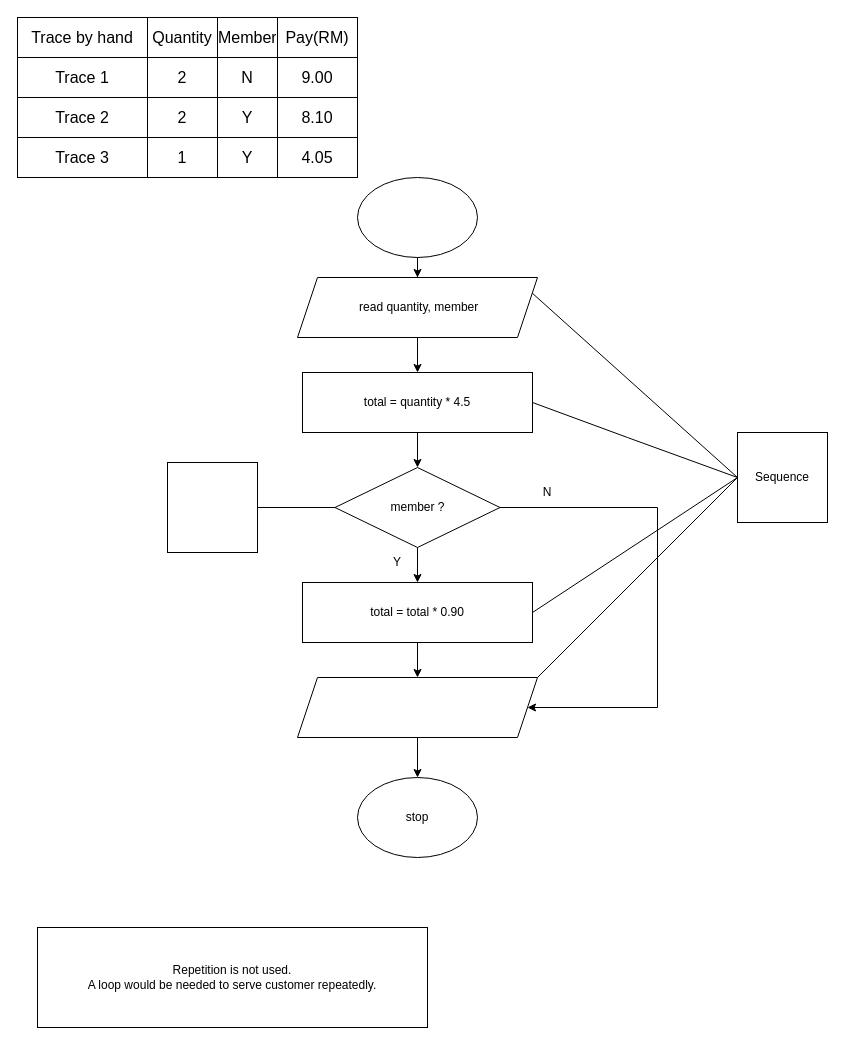
The diagram is 845 pixels wide and 1045 high, and some of its shapes have lost their labels. The box of each missing label's shape, as (x1, y1, x2, y2) in pixels:
display amount to pay: (296, 676, 538, 738)
Selection: (166, 462, 258, 552)
start: (356, 176, 478, 258)
